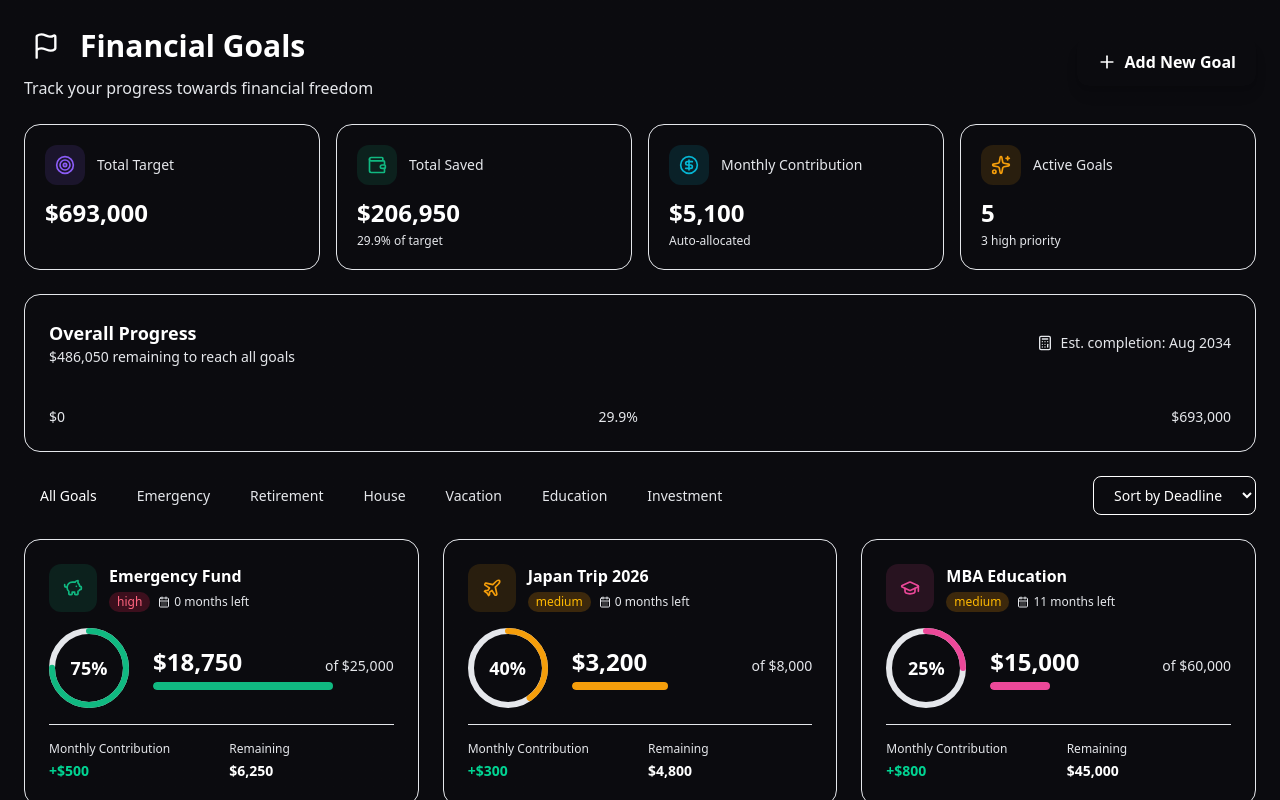
it: GoalsPage Tests › Category Filters › shows all goals when All Goals filter is selected
# First filter to vacation
Click the button with aria-label "filter by vacation" at [474, 496], box 430,478 -> 518,514
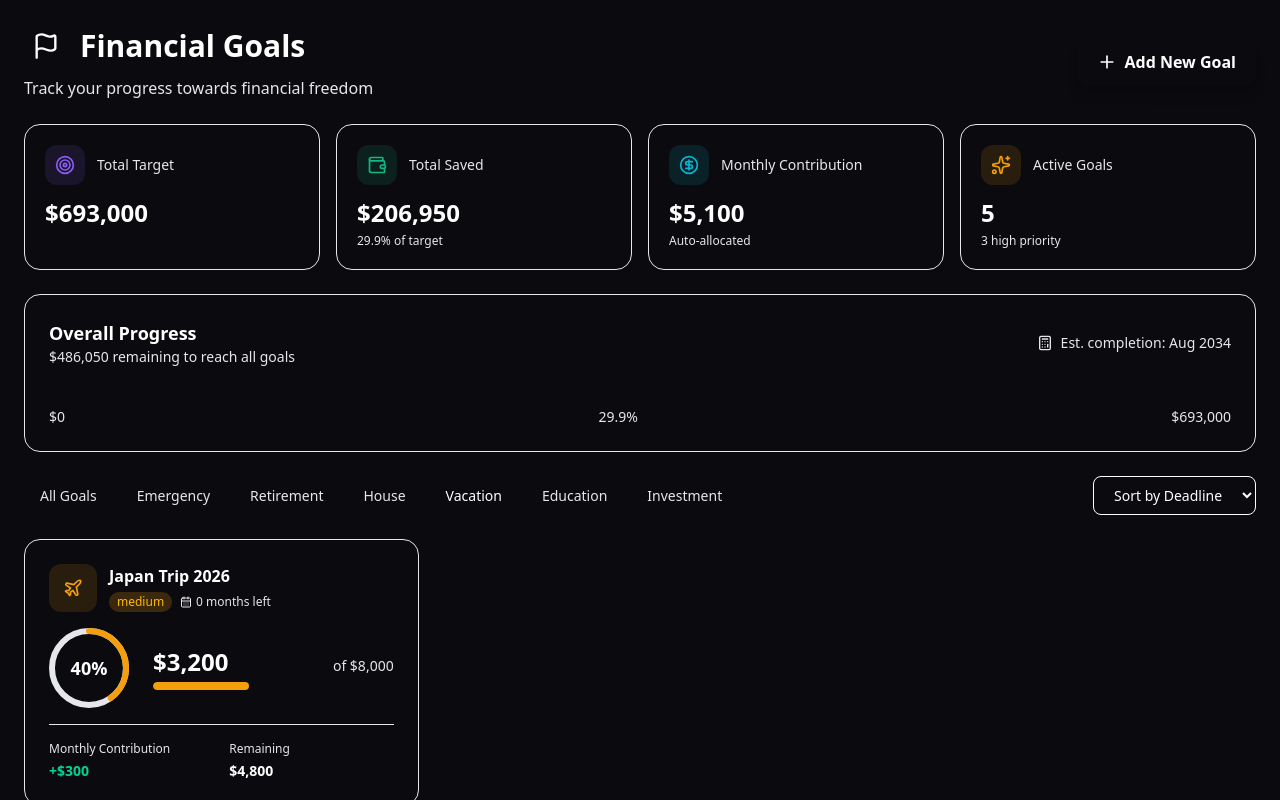
# Then back to all
Click the button with aria-label "filter by all goals" at [68, 496], box 24,478 -> 113,514
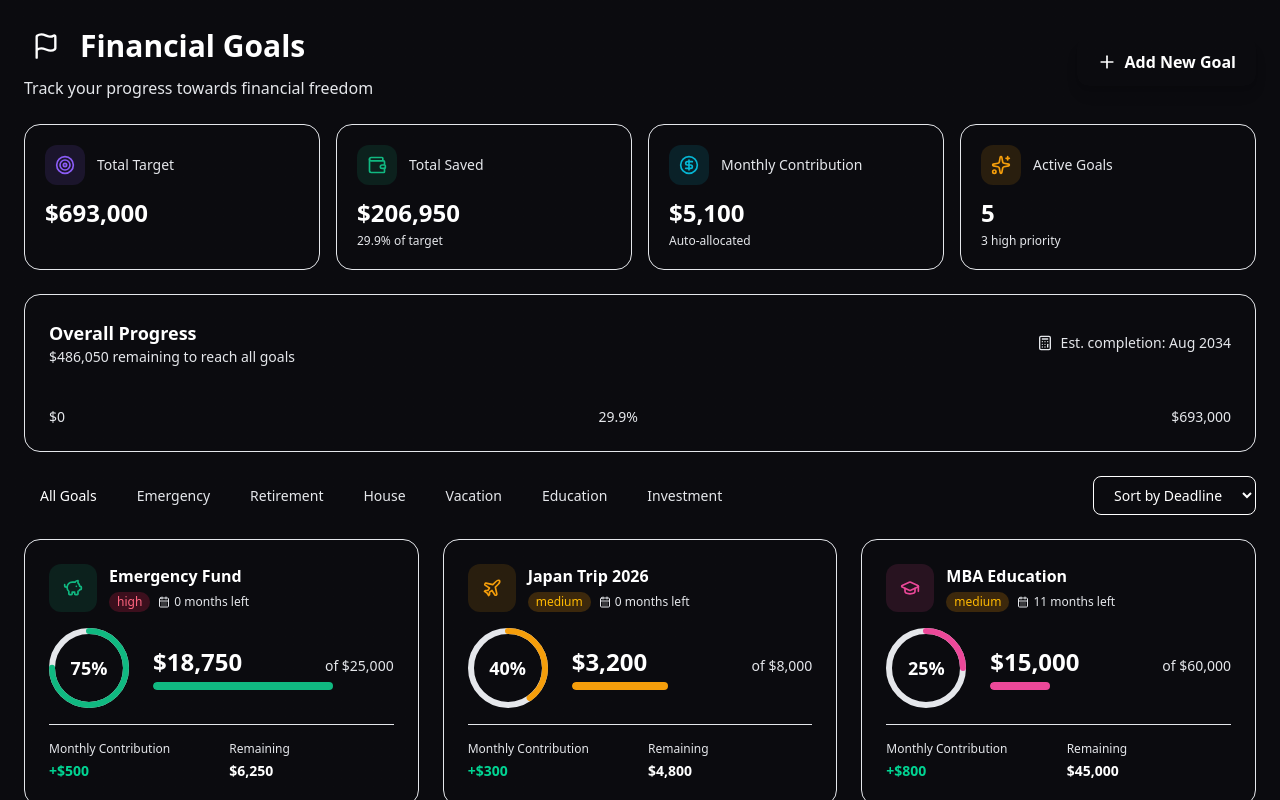
Expected: the heading "Japan Trip 2026" is shown, 528,565 -> 649,587
Expected: the heading "Emergency Fund" is shown, 109,564 -> 249,588
